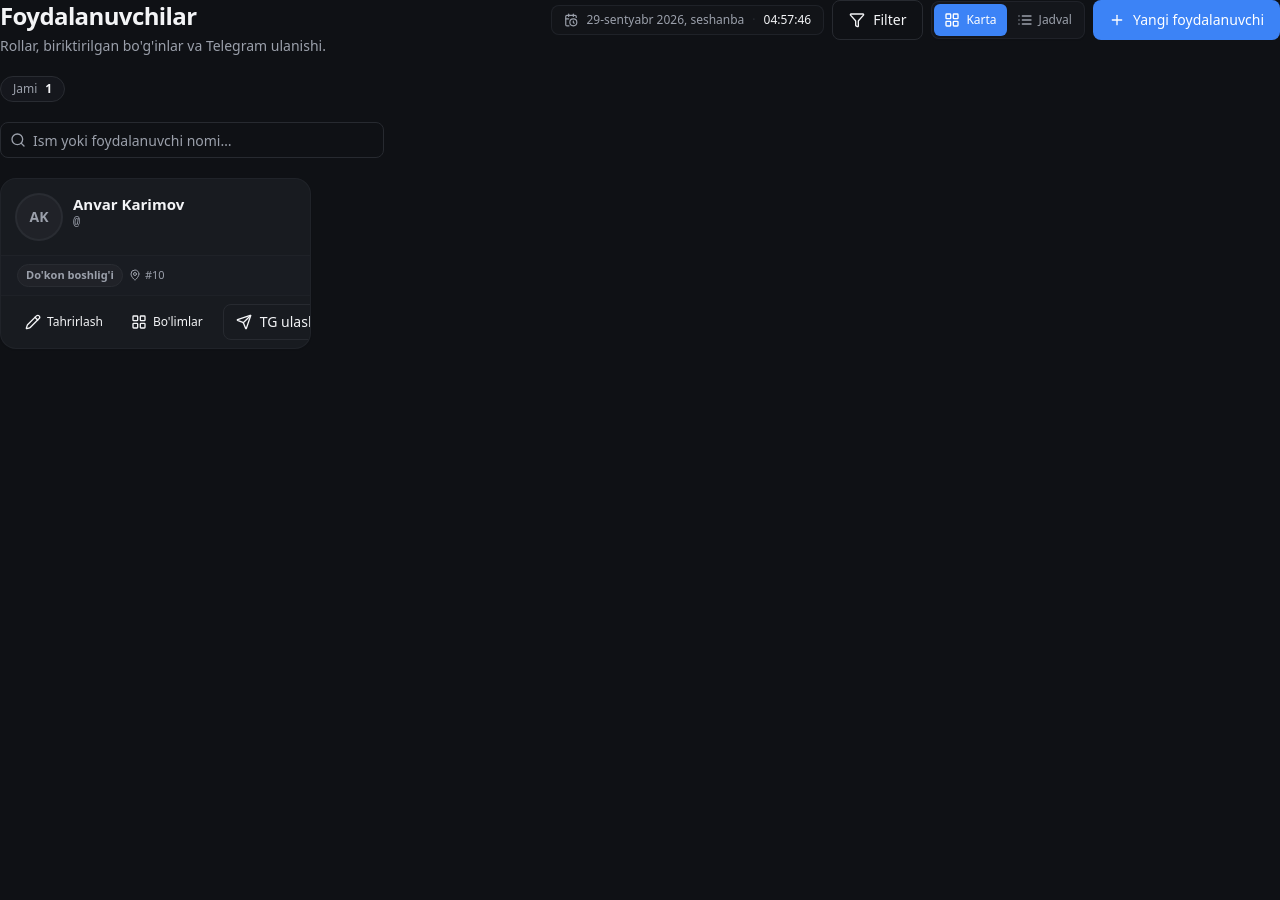
EmployeesPage › opens the per-user bo‘limlar dialog from a roster row
Step 1. Click the button "Bo'limlar" → click(167, 322), box [119,306,215,338]
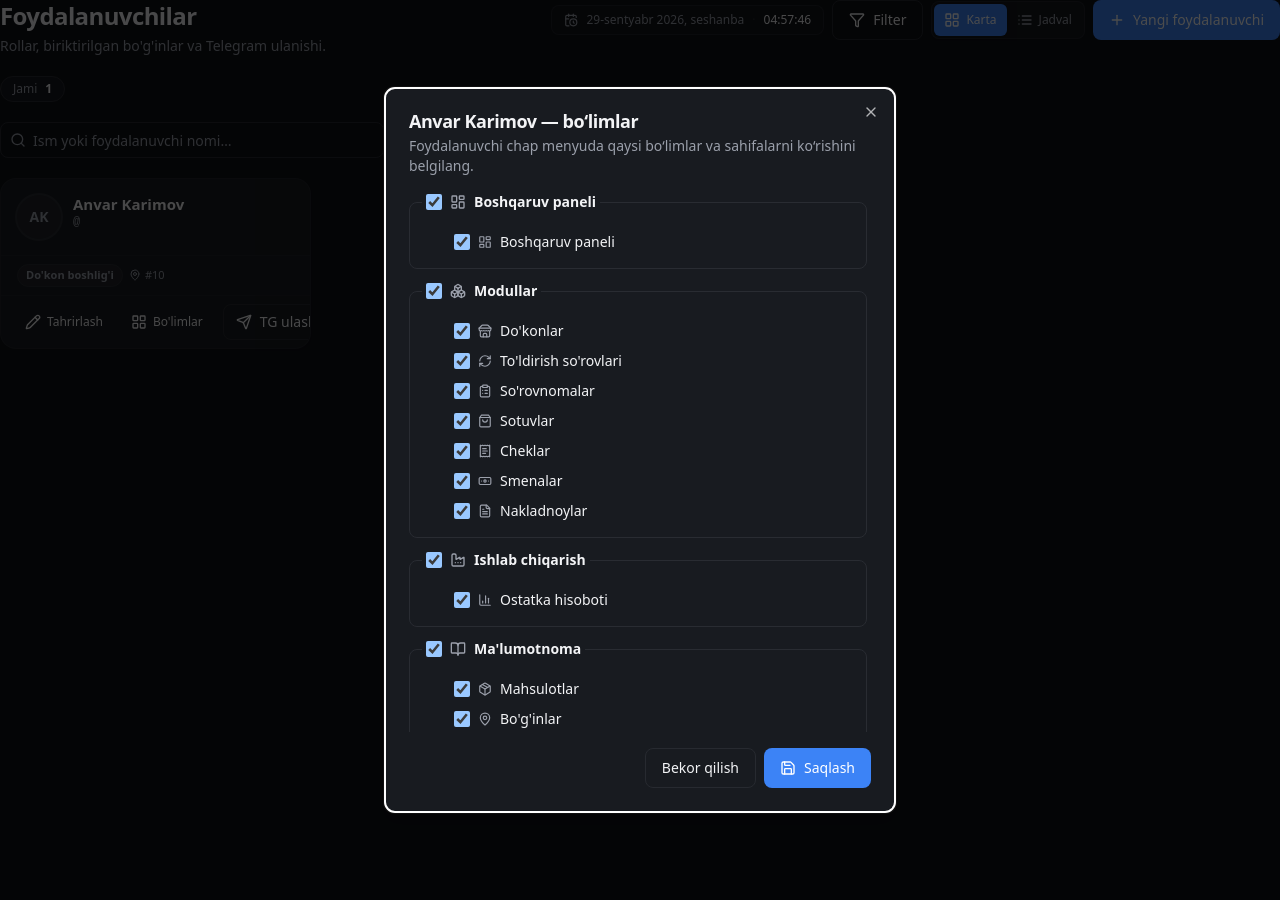
Expected: the heading "Anvar Karimov — bo‘limlar" is shown, [409,109,638,133]
